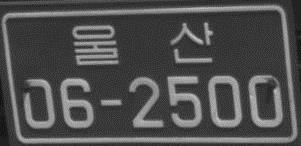-: (98, 96, 125, 110)
0: (205, 73, 245, 129), (245, 72, 283, 129), (20, 77, 57, 131)
2: (127, 74, 165, 130)
5: (165, 73, 203, 130)
6: (57, 76, 96, 130)
울산_D: (70, 19, 215, 67)
